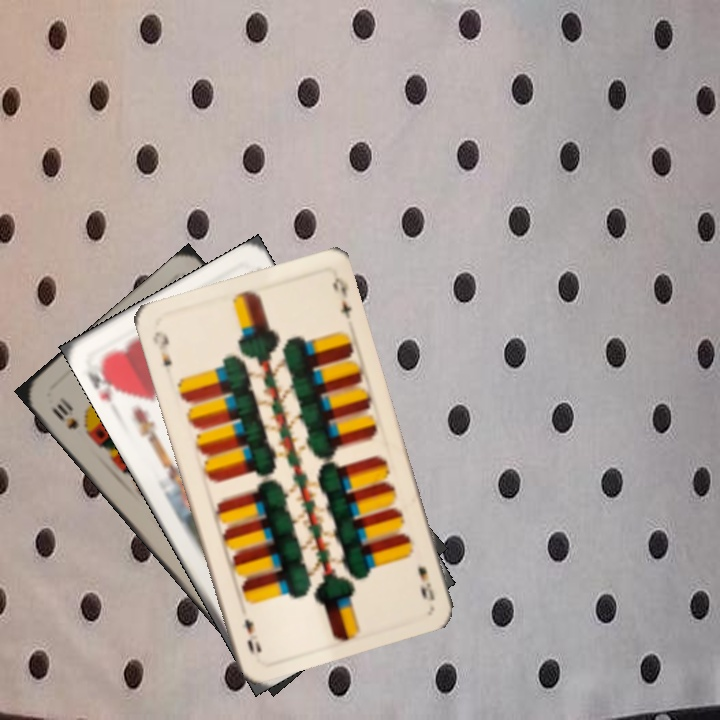E9: (148, 327, 175, 369), (414, 561, 438, 603)
HK: (83, 354, 126, 405)
S10: (48, 393, 81, 433)
